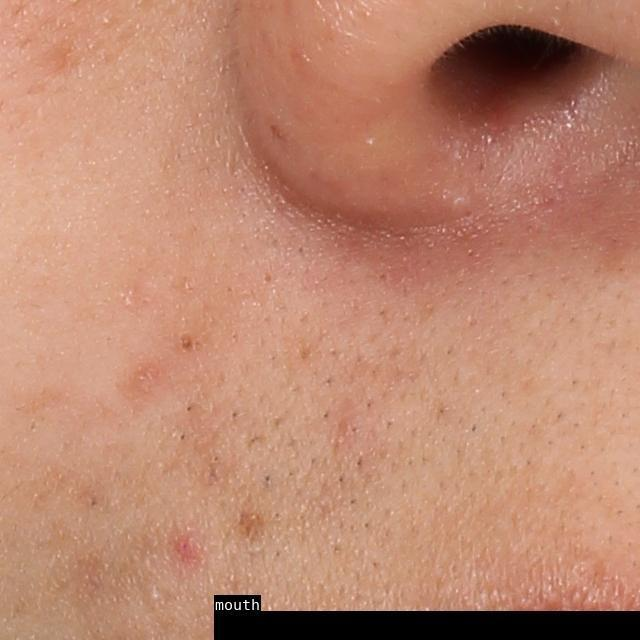comedo: (174, 330, 200, 360)
papule: (172, 529, 212, 570)
